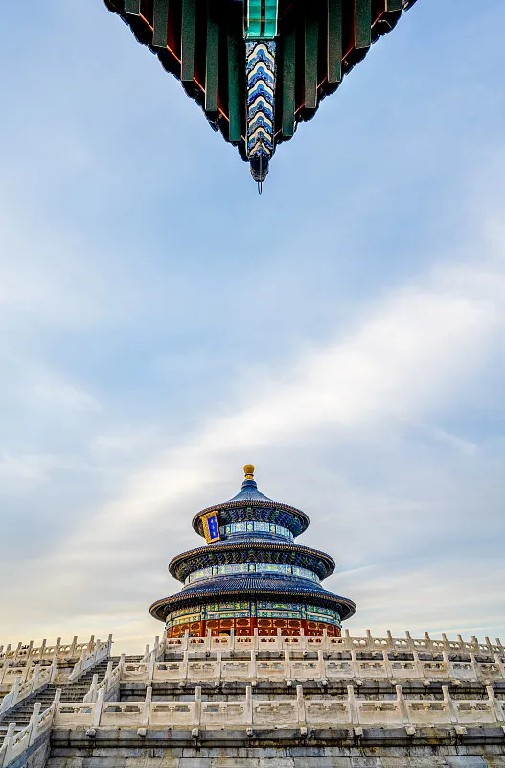Heaven: (146, 465, 356, 639)
